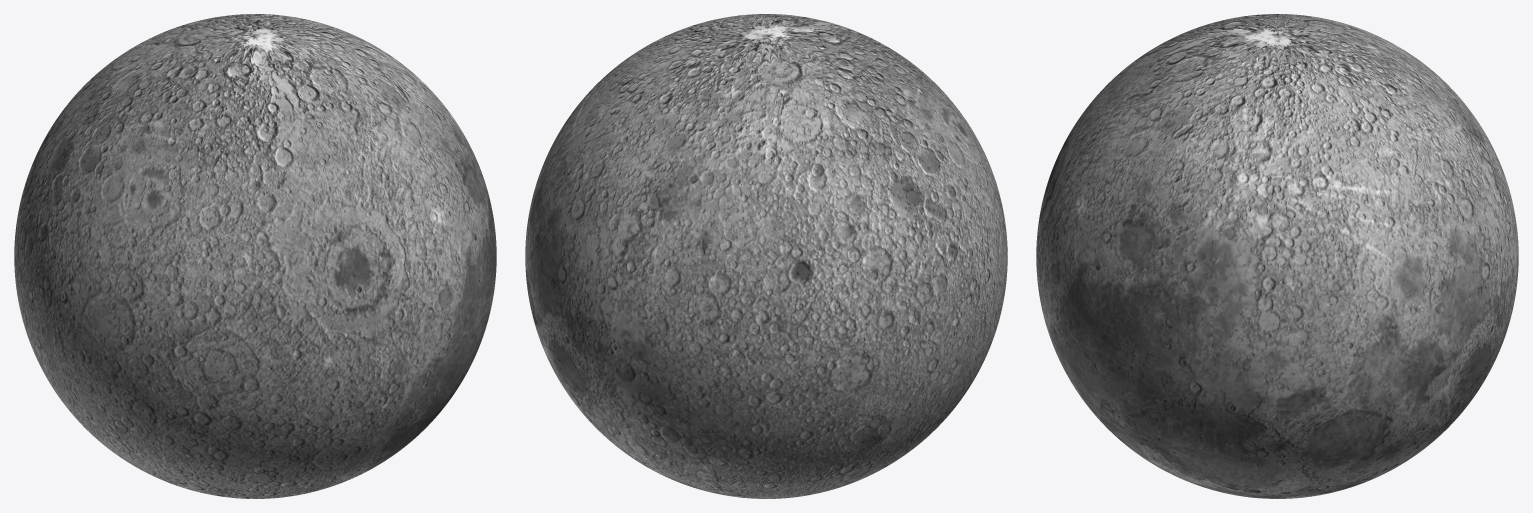
Rendered from mercury.gltf.
The picture shows the model from 3 angles, left to right: view 1: azimuth 30°, elevation 25°; view 2: azimuth 150°, elevation 25°; view 3: azimuth 270°, elevation 25°; orthographic projection.
Parts seen in each view (by area): view 1: Sphere_2; view 2: Sphere_2; view 3: Sphere_2.
Boxes of the visible parts, bbox=[...] form: Sphere_2: bbox=[14, 14, 496, 498]; Sphere_2: bbox=[525, 14, 1007, 498]; Sphere_2: bbox=[1036, 14, 1518, 498].
Size of the model in its own units: 2.23 by 2.25 by 2.23.
Materials: 1 (1 with a texture image).
